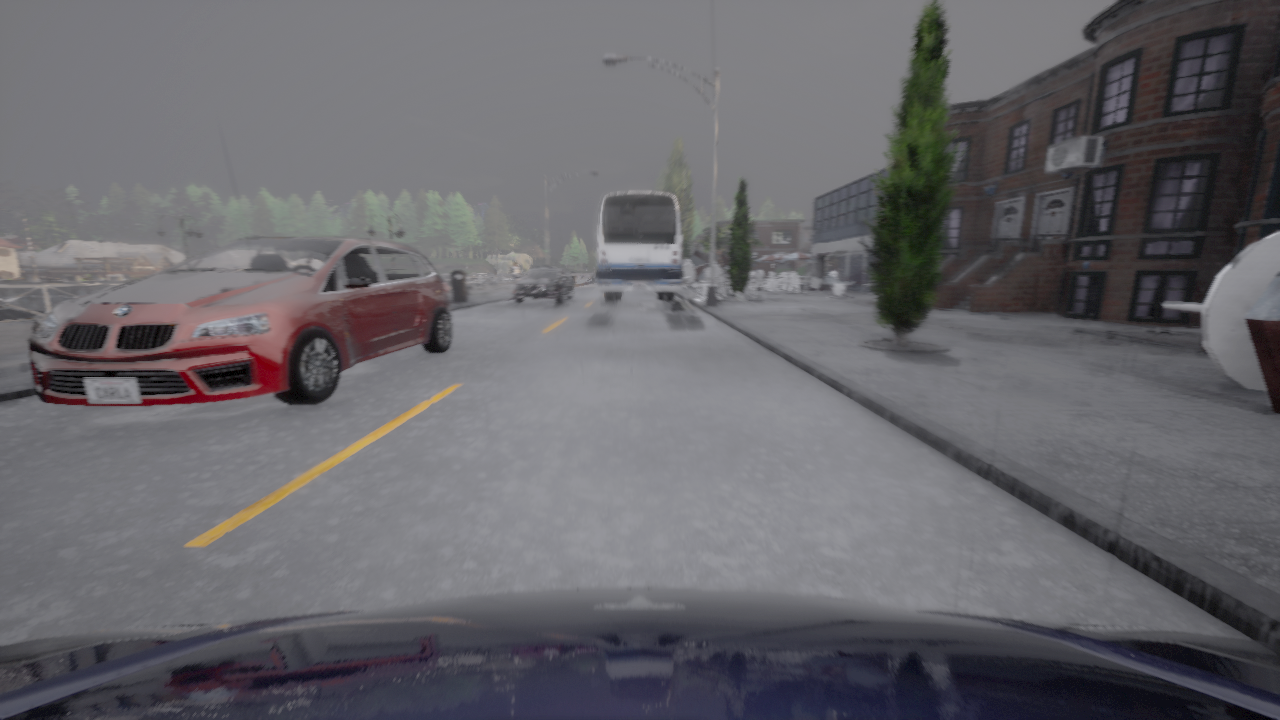cyclist: (0, 588, 1279, 719), (28, 236, 453, 406), (598, 191, 681, 300), (515, 266, 573, 302)
pedestrian: (510, 262, 520, 290)
